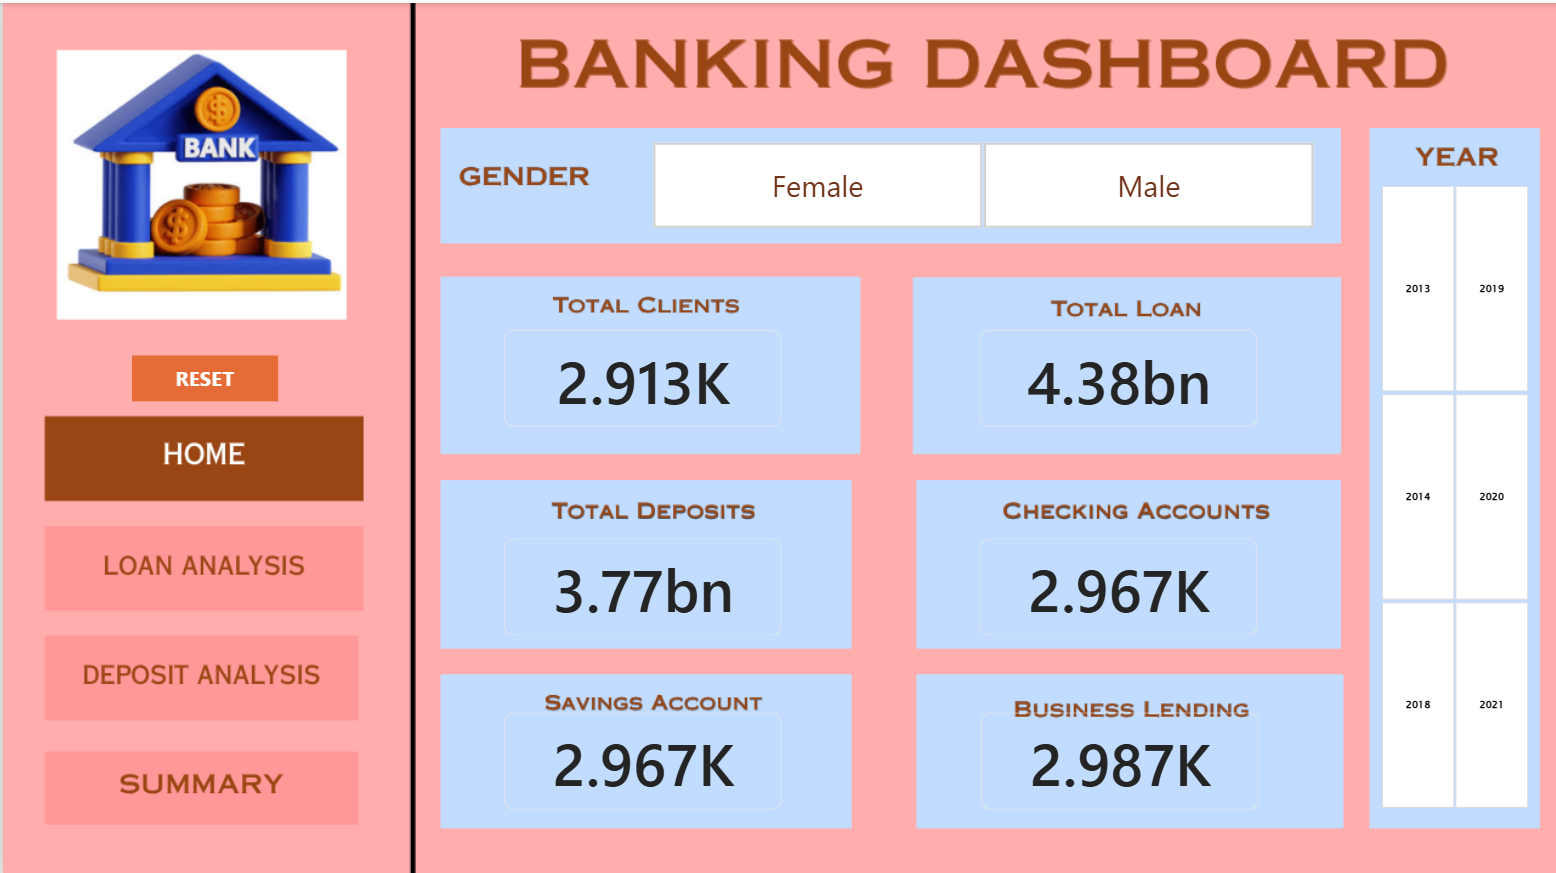

The dashboard page shown, as its layout file describes it:
{"tool":"powerbi","page":{"name":"HOME","canvas":[1920,1080],"ordinal":0},"visuals":[{"type":"cardVisual","fields":{"Data":["Count(banking customer.Name)"]},"box":[618.4,403.5,343.3,120],"z":0},{"type":"slicer","fields":{"Values":["banking customer.GenderId"]},"box":[781.3,170.3,856.3,109],"z":1000},{"type":"cardVisual","fields":{"Data":["banking customer.Total Loan"]},"box":[1206.4,403.5,343.3,120],"z":2000},{"type":"cardVisual","fields":{"Data":["banking customer.Total deposits"]},"box":[618.4,661,343.3,120],"z":3000},{"type":"slicer","fields":{"Values":["banking customer.Year of Joining"]},"box":[1683,224.9,220.3,772.2],"z":4000},{"type":"cardVisual","fields":{"Data":["Count(banking customer.Checking Accounts)"]},"box":[1206.4,661,343.3,120],"z":5000},{"type":"cardVisual","fields":{"Data":["Count(banking customer.Saving Accounts)"]},"box":[618.4,875.9,343.3,120],"z":6000},{"type":"cardVisual","fields":{"Data":["Count(banking customer.Business Lending)"]},"box":[1208.4,875.9,343.3,120],"z":7000},{"type":"actionButton","box":[45.4,781.3,390.7,102.2],"z":8000},{"type":"actionButton","box":[220.3,36.3,279.4,59.1],"z":9000},{"type":"actionButton","box":[230.3,46.3,279.4,59.1],"z":10000},{"type":"actionButton","box":[240.3,56.3,279.4,59.1],"z":11000},{"type":"actionButton","box":[45.4,642.8,390.7,111.3],"z":12000},{"type":"actionButton","box":[45.4,508.8,406.6,102.2],"z":13000},{"type":"actionButton","box":[160.2,435.9,180.5,56.8],"z":14000}]}

Visuals, with their boxes in screenshot pixels (x1, y1, x2, y2), scaled from the page's 1920x1080 canvas onto the 1556x873 screenshot:
cardVisual - Count(banking customer.Name): {"left": 501, "top": 326, "right": 779, "bottom": 423}
slicer - banking customer.GenderId: {"left": 633, "top": 138, "right": 1327, "bottom": 226}
cardVisual - banking customer.Total Loan: {"left": 978, "top": 326, "right": 1256, "bottom": 423}
cardVisual - banking customer.Total deposits: {"left": 501, "top": 534, "right": 779, "bottom": 631}
slicer - banking customer.Year of Joining: {"left": 1364, "top": 182, "right": 1542, "bottom": 806}
cardVisual - Count(banking customer.Checking Accounts): {"left": 978, "top": 534, "right": 1256, "bottom": 631}
cardVisual - Count(banking customer.Saving Accounts): {"left": 501, "top": 708, "right": 779, "bottom": 805}
cardVisual - Count(banking customer.Business Lending): {"left": 979, "top": 708, "right": 1258, "bottom": 805}
actionButton: {"left": 37, "top": 632, "right": 353, "bottom": 714}
actionButton: {"left": 179, "top": 29, "right": 405, "bottom": 77}
actionButton: {"left": 187, "top": 37, "right": 413, "bottom": 85}
actionButton: {"left": 195, "top": 46, "right": 421, "bottom": 93}
actionButton: {"left": 37, "top": 520, "right": 353, "bottom": 610}
actionButton: {"left": 37, "top": 411, "right": 366, "bottom": 494}
actionButton: {"left": 130, "top": 352, "right": 276, "bottom": 398}
